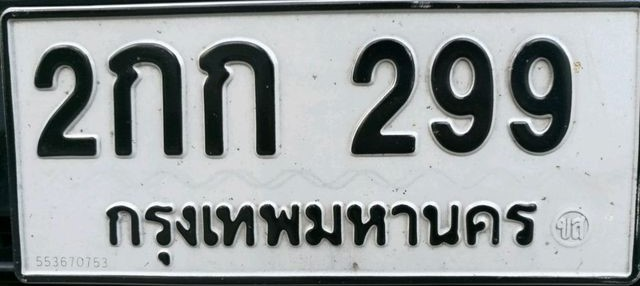num2: (32, 42, 103, 161)
txt01: (194, 36, 282, 160), (106, 39, 188, 158)
